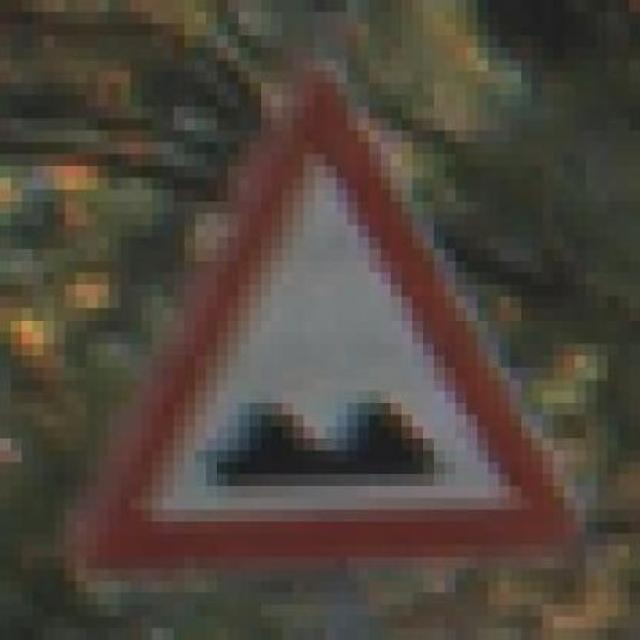Uneven Road: (65, 48, 586, 569)
